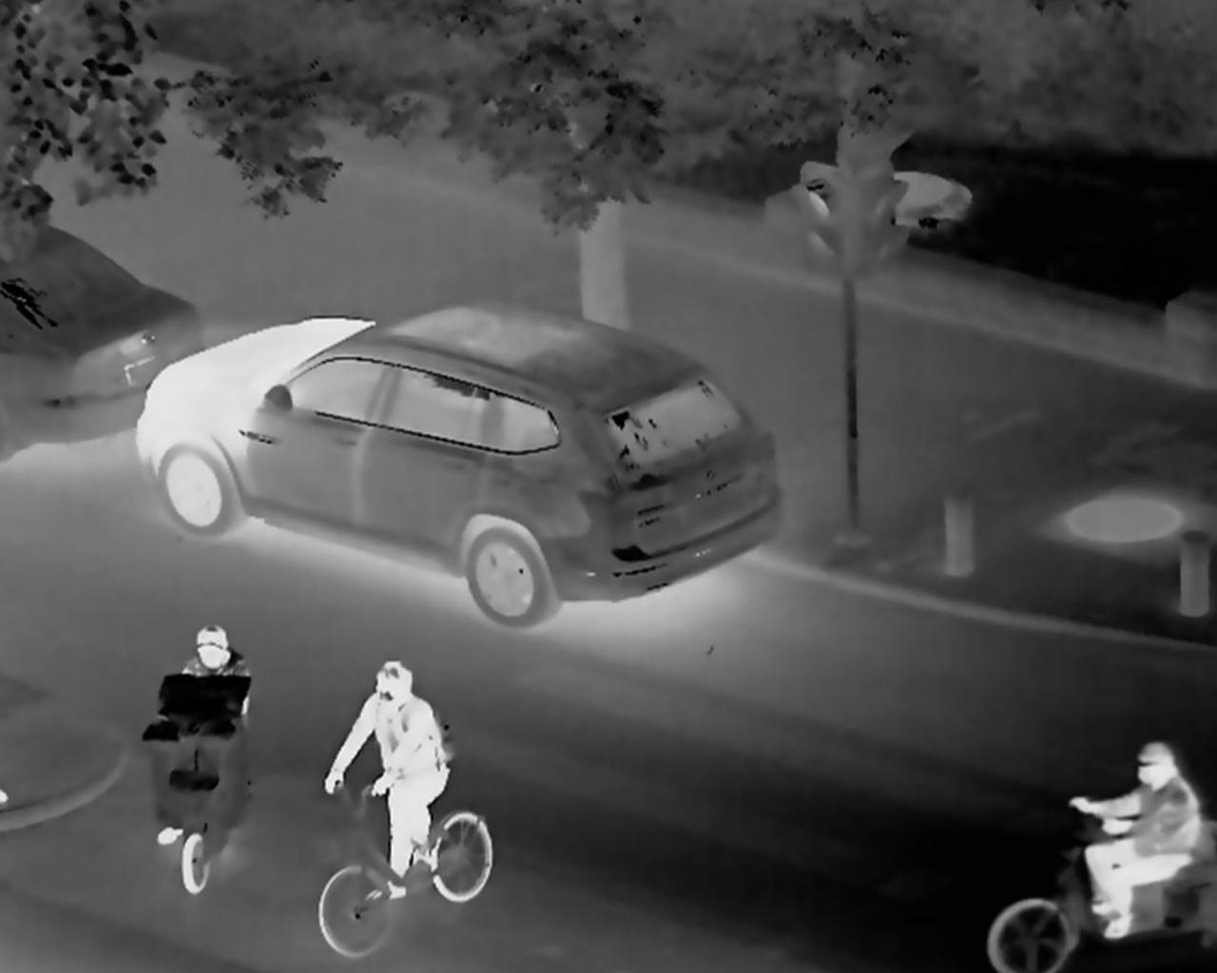person: (319, 659, 457, 895), (1065, 738, 1202, 938), (152, 615, 261, 843)
